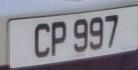7: (104, 12, 122, 52)
9: (71, 14, 90, 58), (89, 13, 105, 55)
C: (29, 19, 53, 63)
P: (49, 17, 70, 62)
